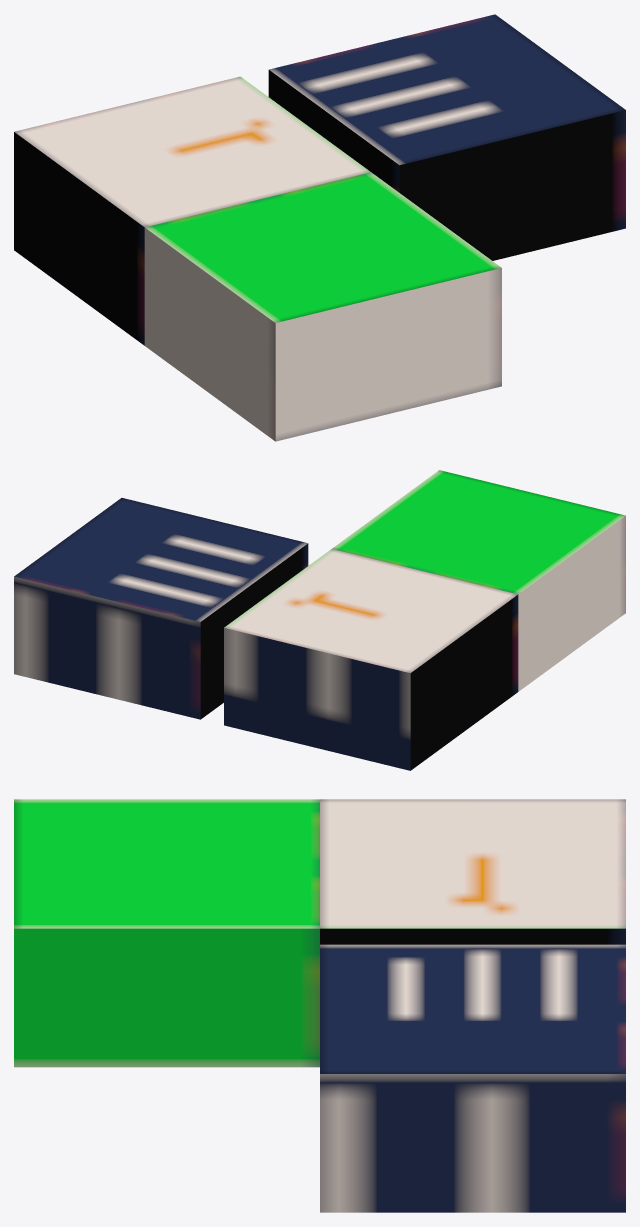
Rendered from nerftest.obj.
3 renders of one model, top to bottom at view 1: azimuth 30°, elevation 25°; view 2: azimuth 150°, elevation 25°; view 3: azimuth 270°, elevation 25°, orthographic. The views are drawn at different scales.
Parts seen in each view (by area): view 1: nerftest; view 2: nerftest; view 3: nerftest.
Boxes of the visible parts, box(x1,y1,x2,y2) form: nerftest: box(14, 14, 625, 441); nerftest: box(14, 470, 625, 770); nerftest: box(14, 799, 625, 1212).
Size of the model in its own units: 4.25 by 1 by 4.
